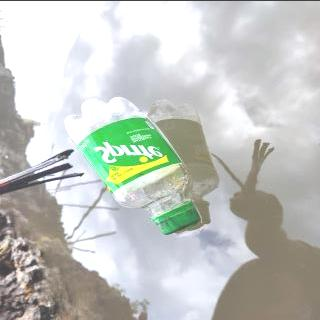bottle: (62, 94, 204, 236)
